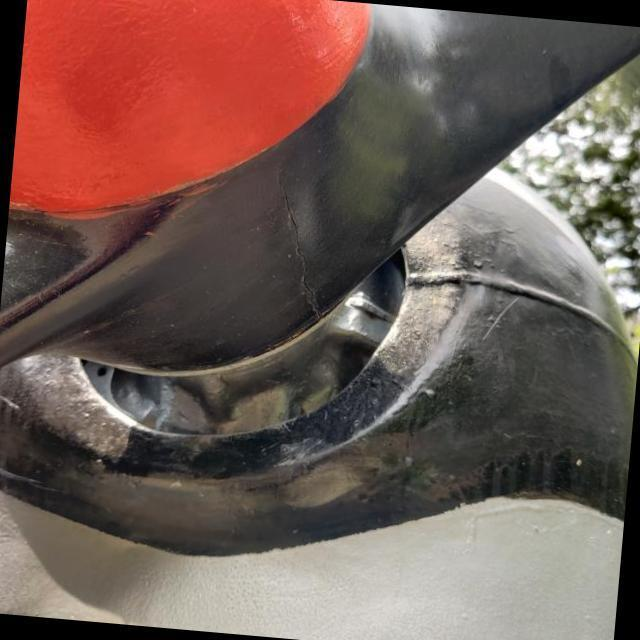Rupture: (247, 158, 357, 328)
